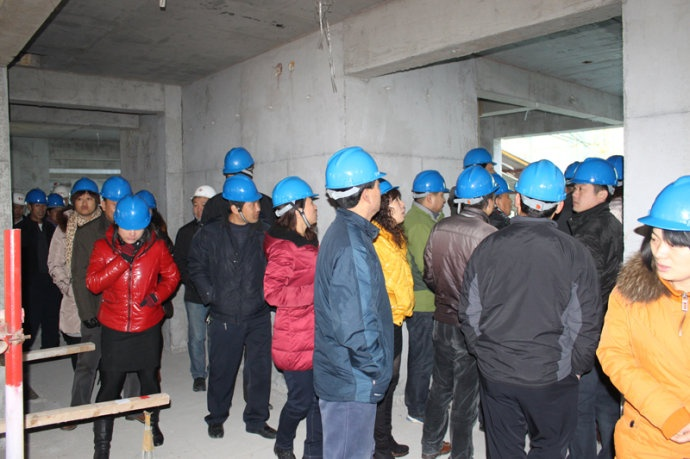blue: (643, 175, 690, 287), (321, 148, 383, 216), (514, 159, 566, 214), (569, 158, 618, 213), (270, 175, 318, 230), (221, 175, 261, 223), (455, 166, 494, 215), (113, 195, 150, 241), (373, 177, 406, 225), (410, 169, 447, 211), (99, 174, 130, 215), (69, 179, 98, 214), (488, 173, 512, 215), (225, 148, 254, 178), (463, 146, 495, 173), (25, 187, 48, 220), (44, 193, 64, 220)
white: (188, 187, 214, 219), (12, 191, 26, 217), (52, 186, 70, 205)
